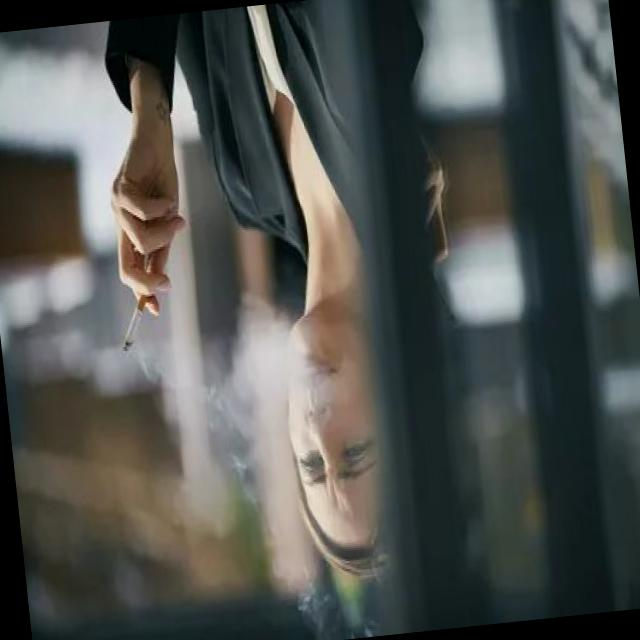cigarette: (112, 281, 162, 359)
